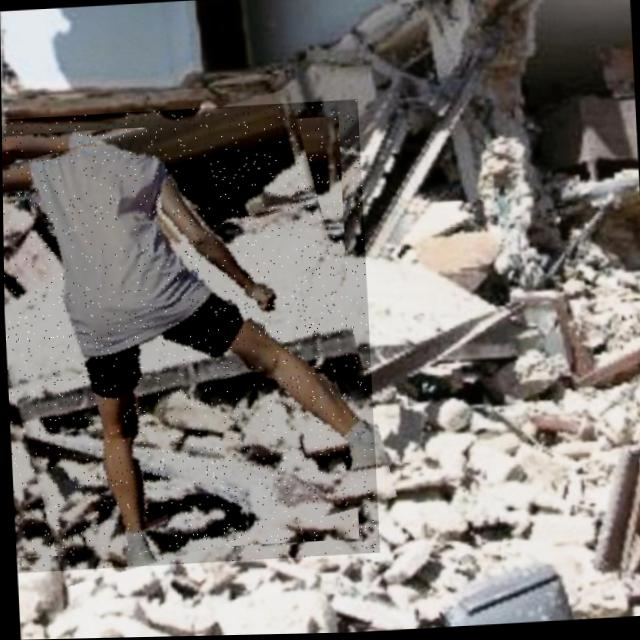Person in Rubble: (1, 101, 378, 573)
